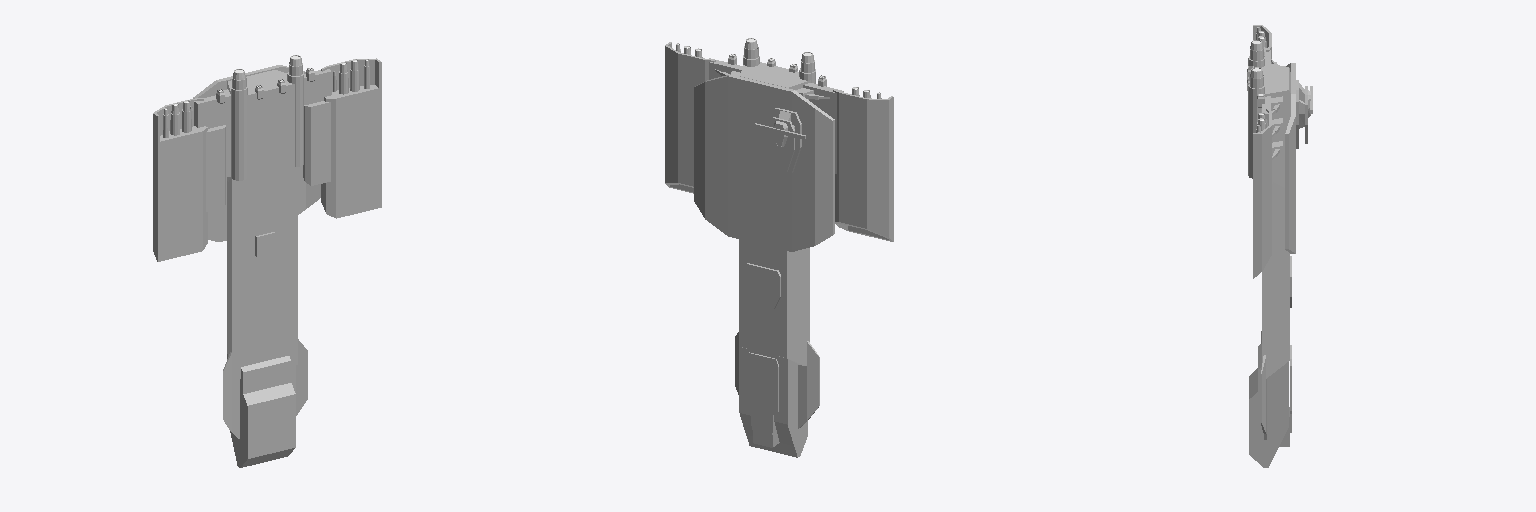
Rendered from X304_ship.obj.
3 renders of one model, left to right at view 1: azimuth 30°, elevation 25°; view 2: azimuth 150°, elevation 25°; view 3: azimuth 270°, elevation 25°, orthographic.
Visible parts, largest first — view 1: bc304g, bc304c, bc304e, bc304a, bc304d, bc304b; view 2: bc304g, bc304e, bc304c, bc304b, bc304a; view 3: bc304g, bc304c, bc304e, bc304a, bc304d, bc304b.
Boxes of the visible parts, box(x1,y1,x2,y2) form: bc304g: box(158, 55, 381, 261); bc304c: box(227, 167, 297, 380); bc304e: box(153, 58, 380, 261); bc304a: box(227, 354, 295, 467); bc304d: box(223, 81, 294, 181); bc304b: box(223, 339, 307, 438); bc304g: box(676, 38, 881, 251); bc304e: box(665, 42, 893, 241); bc304c: box(739, 239, 809, 365); bc304b: box(735, 332, 819, 447); bc304a: box(739, 347, 807, 457); bc304g: box(1247, 27, 1312, 253); bc304c: box(1262, 182, 1291, 378); bc304e: box(1253, 25, 1288, 278); bc304a: box(1249, 344, 1288, 467); bc304d: box(1264, 59, 1290, 187); bc304b: box(1261, 331, 1291, 446).
Size of the model in its own units: 23.55 by 40.24 by 5.94.